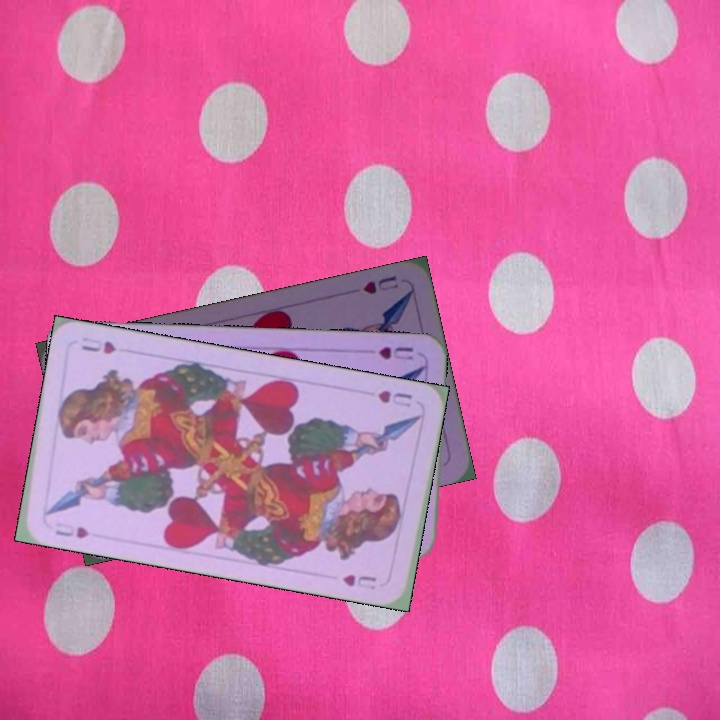HU: (50, 514, 92, 541), (359, 272, 401, 297), (374, 386, 414, 410), (374, 343, 416, 363)
